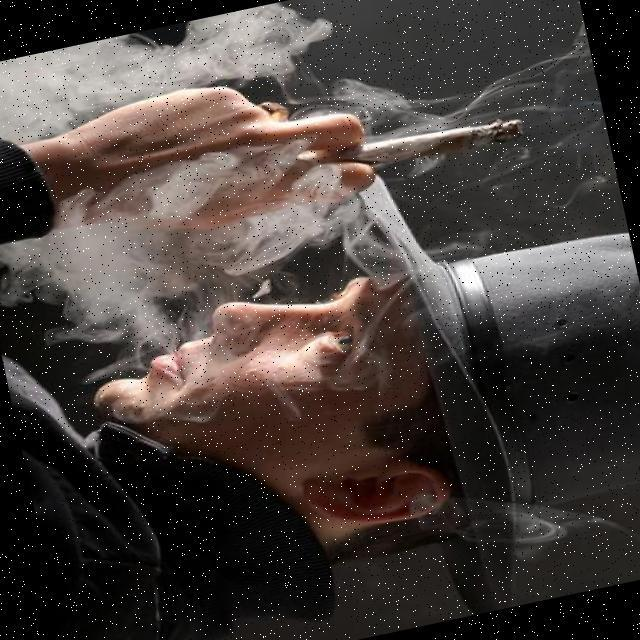cigarette: (347, 105, 529, 178)
